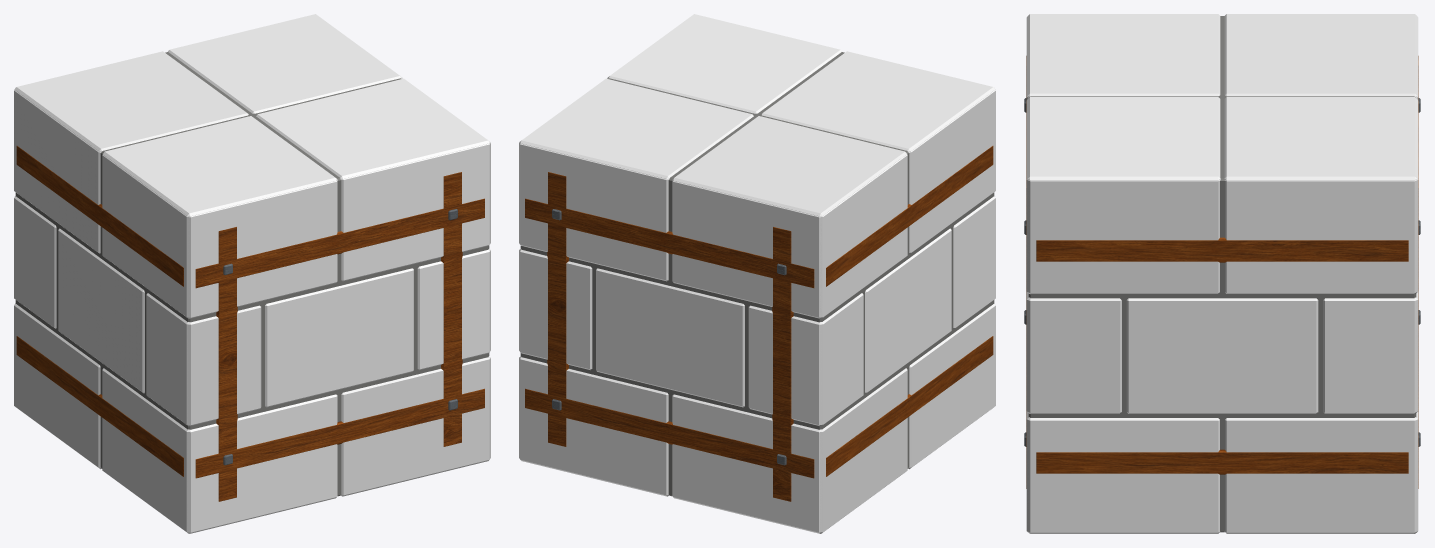
The model's file is castle_timber_wall.gltf.
The picture shows the model from 3 angles, left to right: view 1: azimuth 30°, elevation 25°; view 2: azimuth 150°, elevation 25°; view 3: azimuth 270°, elevation 25°; orthographic projection. The views are drawn at different scales.
Bounding box in the file's own units: 0.99 × 0.994 × 1.
7 materials, 2 textured.
